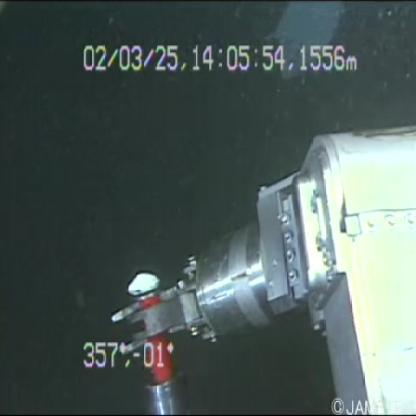Rov: (105, 113, 416, 416)
Rác: (258, 3, 348, 94)
